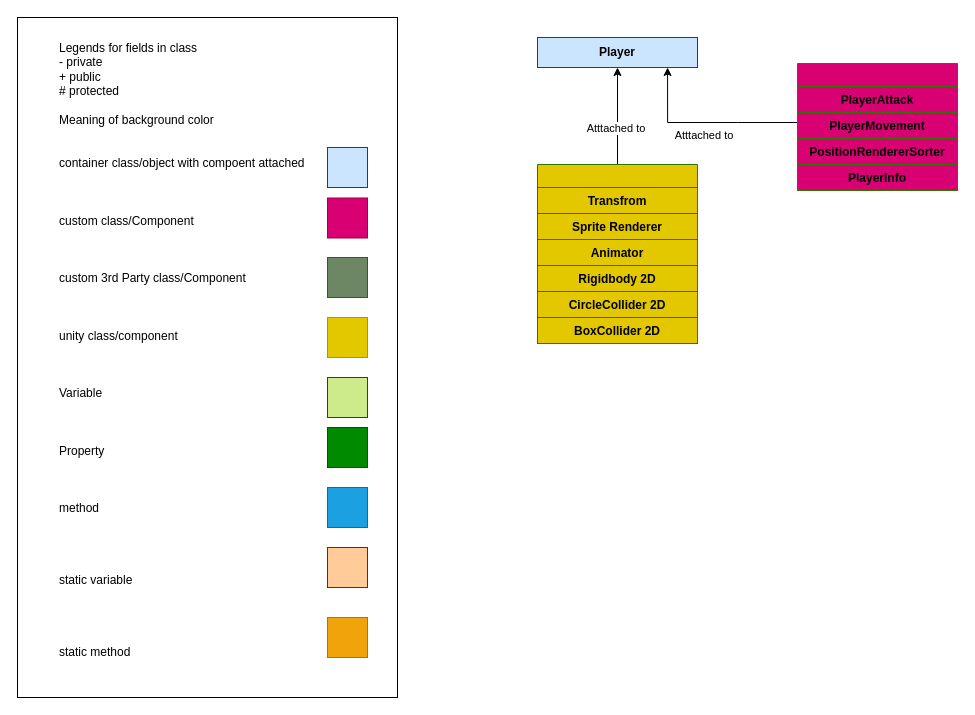
This 975x715 diagram has some shape labels left out. Here are the shapes that lost their labels. From the top down, the box of each, then its label:
(796, 62, 958, 190): Custom Components
(536, 164, 698, 344): Unity Components
